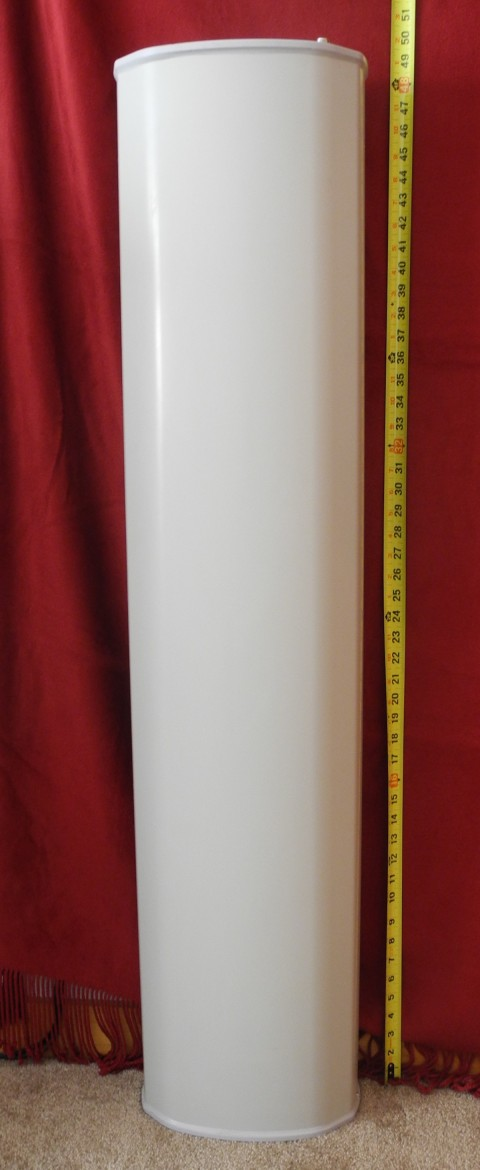sa: (83, 42, 372, 1122)
